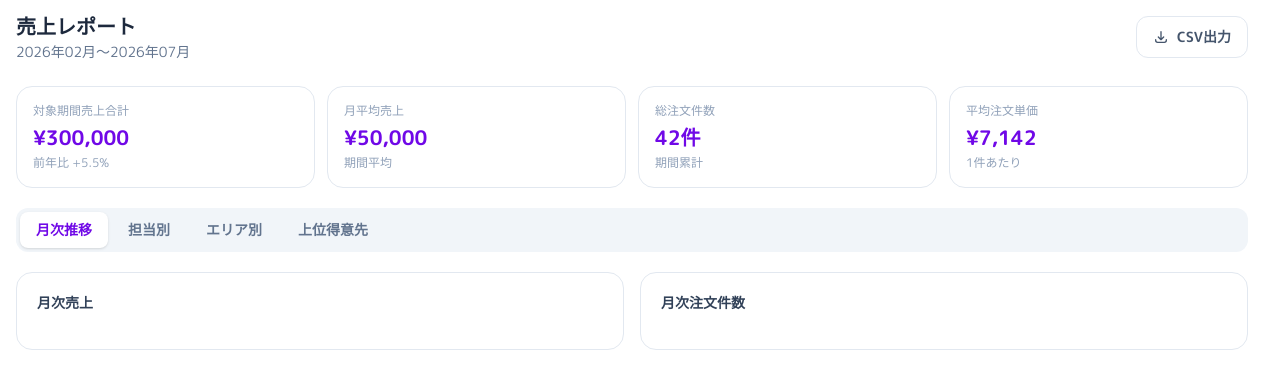
Test case: ReportsPage › 担当別タブへ切り替えて表示できる
Click the button "担当別" at (149, 230), box [112,212,186,248]
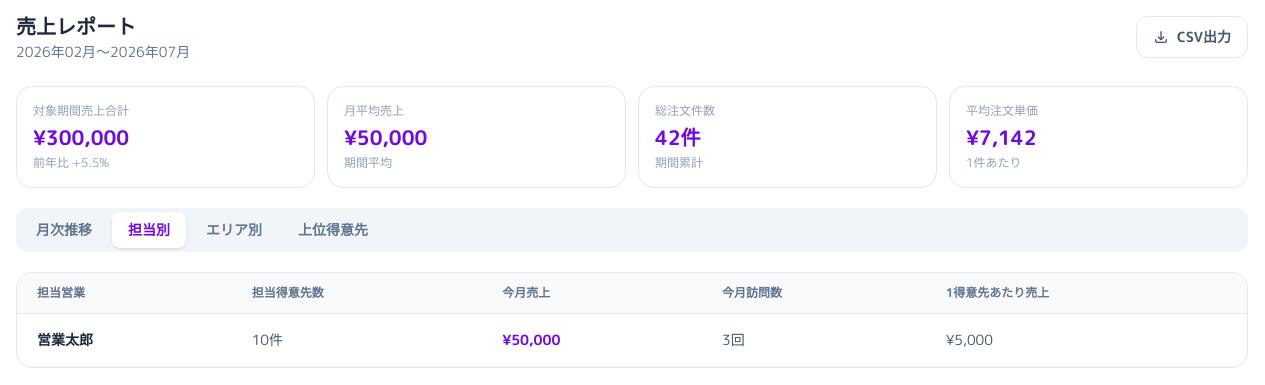
Check: the text "営業太郎" is shown, box [17,314,232,366]
Check: the text "10件" is shown, box [232,314,482,366]
